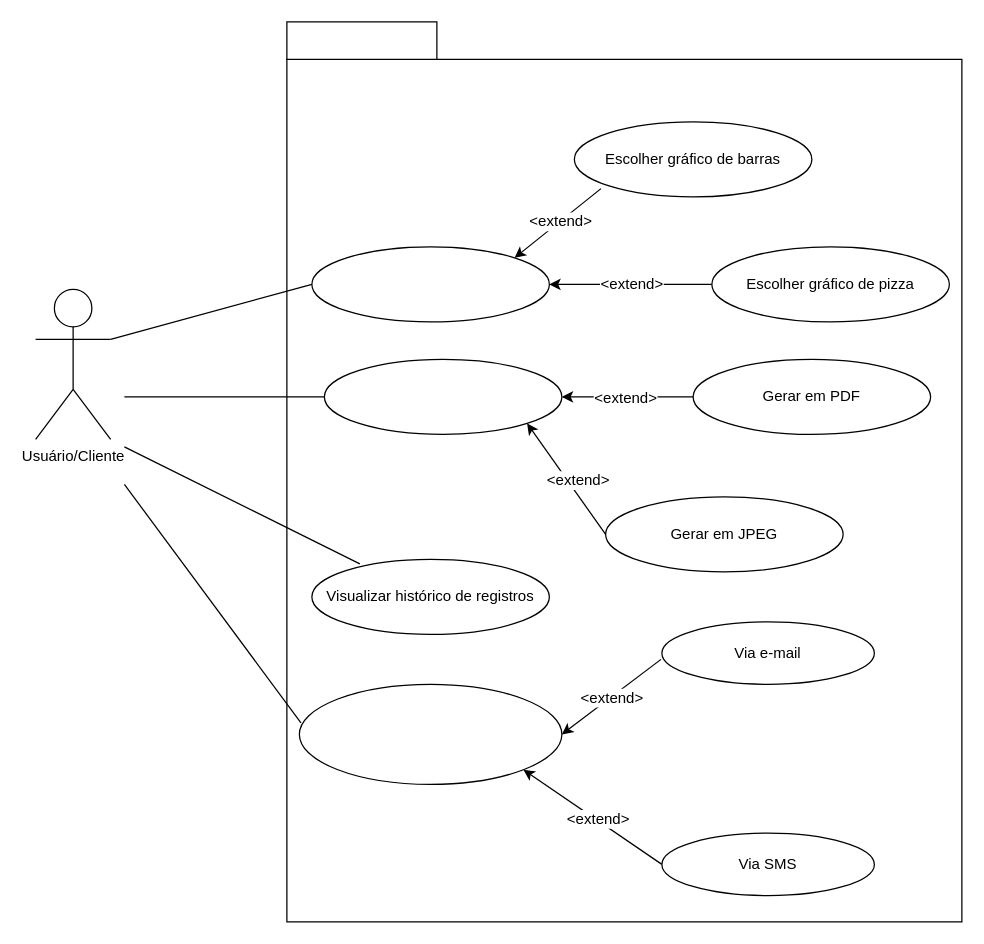
Some shapes in this 984 by 944 pixel diagram are drawn without their labels. The centre of each missing label's shape, as x and y in pixels:
DASHBOARD: point (361, 40)
Escolher layout de gráfico: point (430, 284)
Gerar relatório de monitoração: point (442, 396)
Receber alertas sobre o status da mineração, performance da máquina: point (430, 733)
